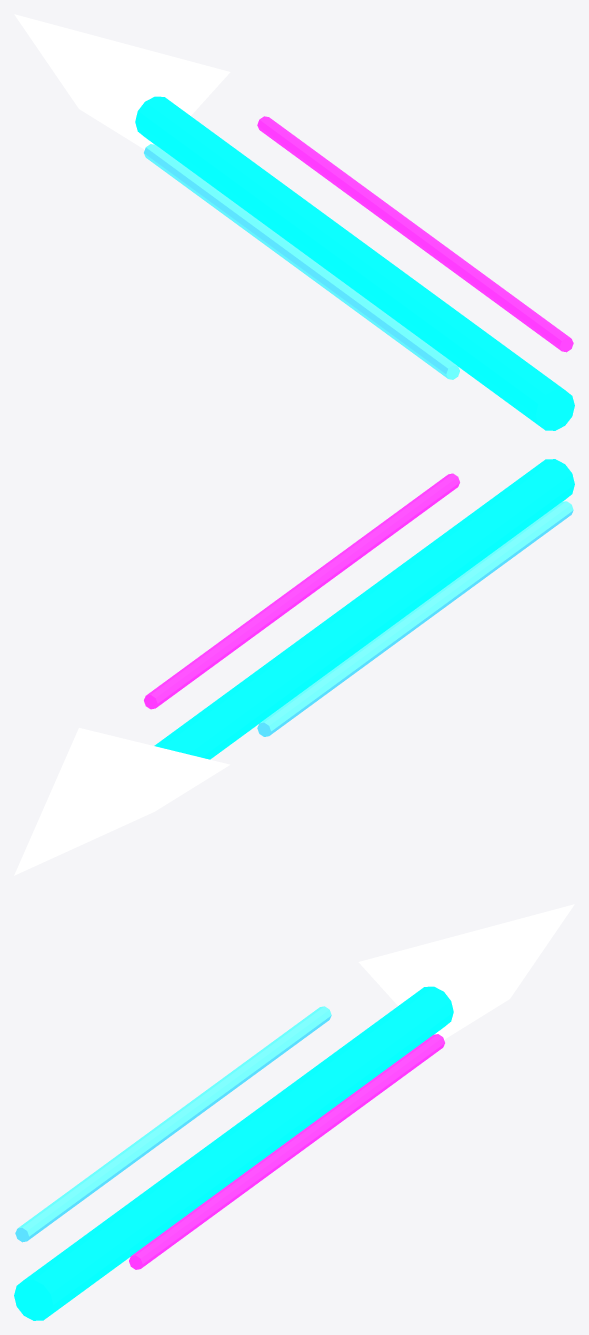
File: vector_spear.glb
The picture shows the model from 3 angles, top to bottom: view 1: azimuth 30°, elevation 25°; view 2: azimuth 150°, elevation 25°; view 3: azimuth 330°, elevation 25°; orthographic projection.
Visible parts, largest first — view 1: VectorSpearRailBody, VectorSpearArrowHead, VectorSpearBlueSideRail, VectorSpearMagentaSideRail; view 2: VectorSpearRailBody, VectorSpearArrowHead, VectorSpearBlueSideRail, VectorSpearMagentaSideRail; view 3: VectorSpearRailBody, VectorSpearArrowHead, VectorSpearBlueSideRail, VectorSpearMagentaSideRail.
Boxes of the visible parts, <box> form: VectorSpearRailBody: <box>135,96,574,430</box>; VectorSpearArrowHead: <box>14,14,230,149</box>; VectorSpearBlueSideRail: <box>144,144,459,379</box>; VectorSpearMagentaSideRail: <box>257,116,573,352</box>; VectorSpearRailBody: <box>154,459,574,759</box>; VectorSpearArrowHead: <box>14,728,229,875</box>; VectorSpearBlueSideRail: <box>257,501,573,736</box>; VectorSpearMagentaSideRail: <box>144,473,459,709</box>; VectorSpearRailBody: <box>14,986,453,1320</box>; VectorSpearArrowHead: <box>358,904,574,1039</box>; VectorSpearBlueSideRail: <box>15,1006,331,1242</box>; VectorSpearMagentaSideRail: <box>129,1034,444,1269</box>.
Bounding box in the file's own units: 0.375 × 0.1548 × 2.32.
